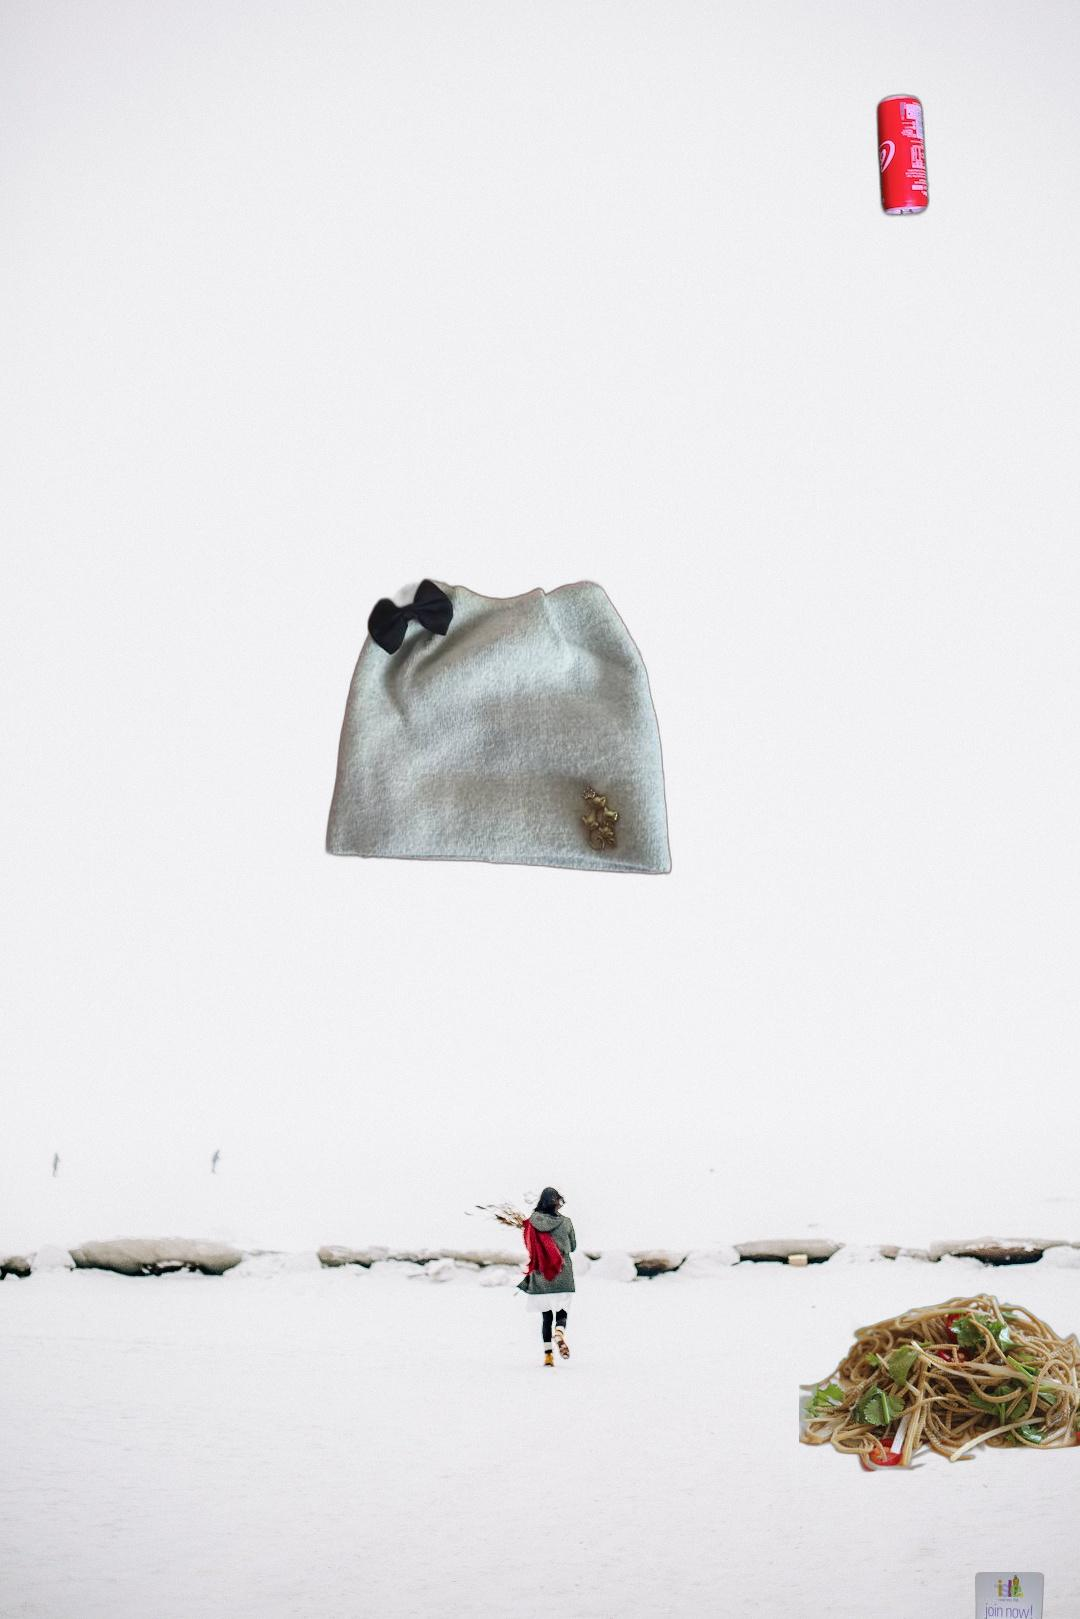biological: (799, 1291, 1080, 1476)
clothes: (321, 564, 674, 879)
metal-cans: (873, 89, 933, 222)
trashbox-cardboard: (955, 1570, 1047, 1619)
